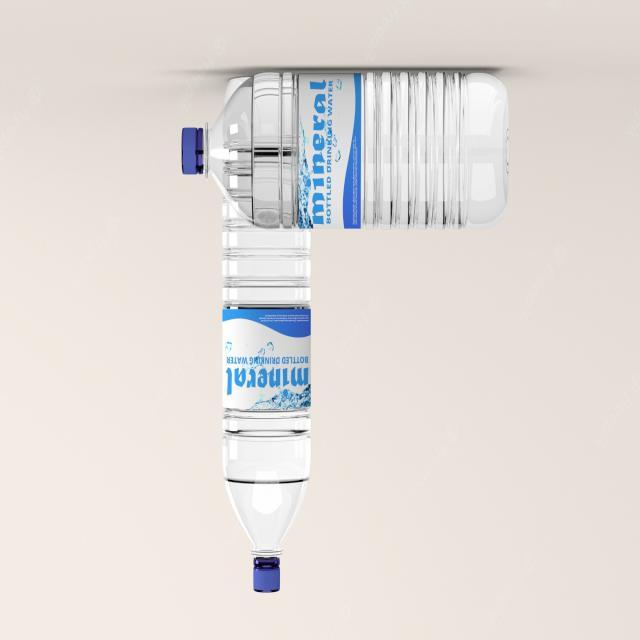cap: (176, 122, 208, 181), (250, 558, 284, 600)
label: (287, 65, 368, 231), (218, 305, 320, 410)
not-crumbled: (172, 60, 514, 232), (215, 223, 318, 604)
